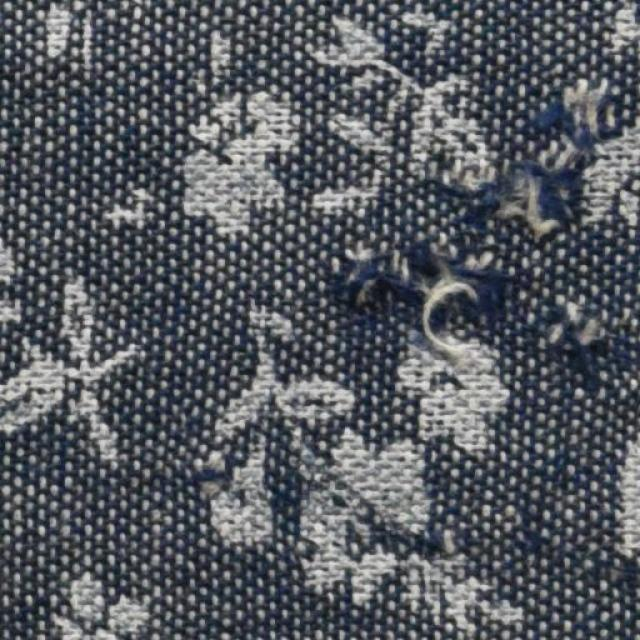Snag: (443, 79, 620, 247), (345, 236, 496, 347), (538, 293, 613, 368)
